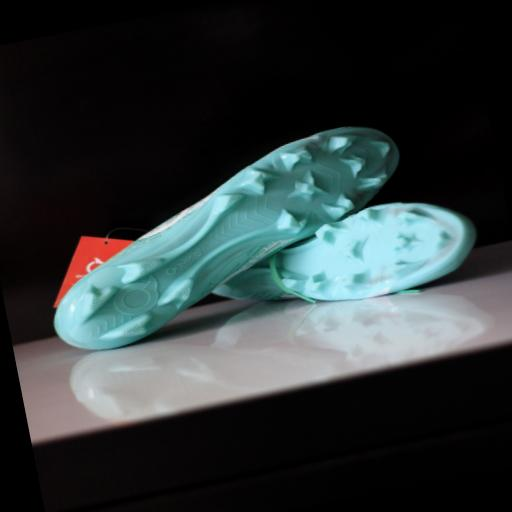shoe: (55, 128, 398, 349), (71, 290, 491, 422), (212, 291, 491, 384), (214, 203, 475, 300)
